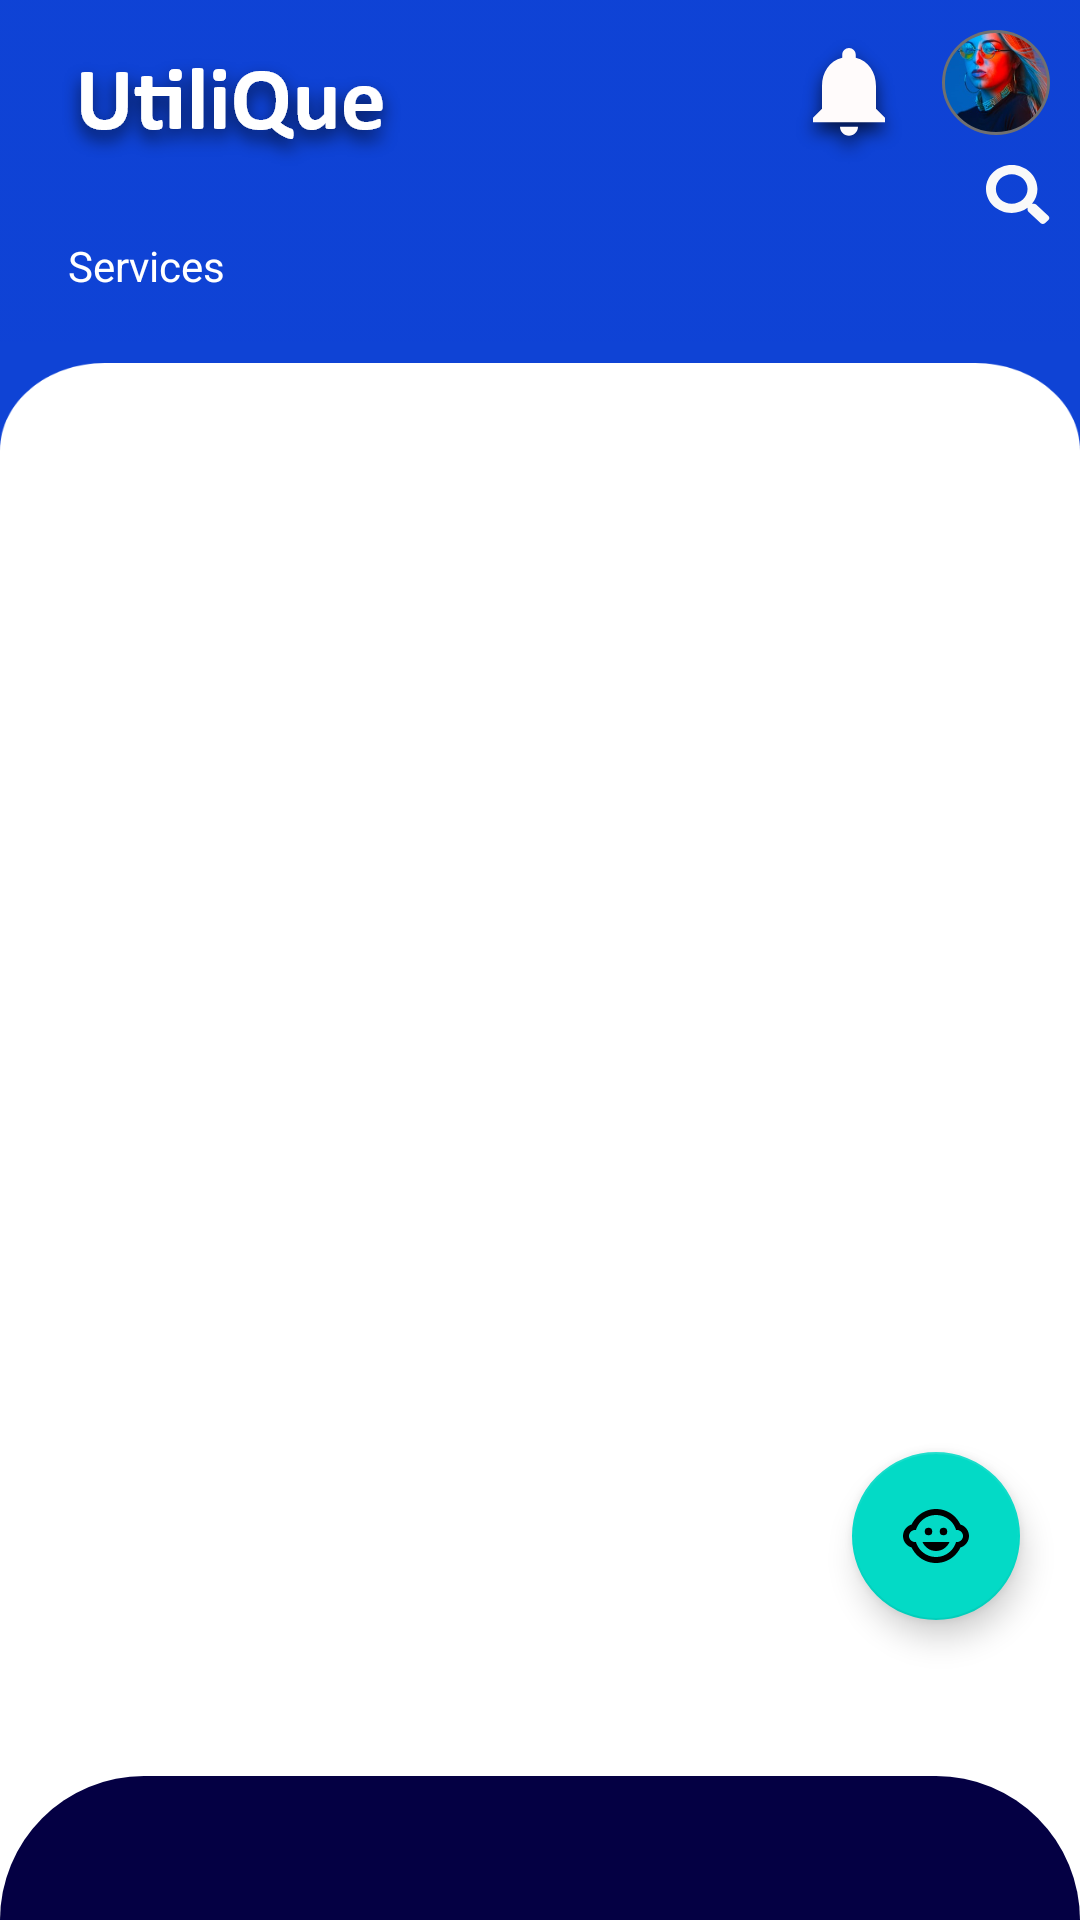

Locate icon controls on the screen. Image size 1080x1920, boxes as (x1, y1, x2, y2).
awesome search: (986, 165, 1050, 224)
notifications: (810, 48, 888, 148)
